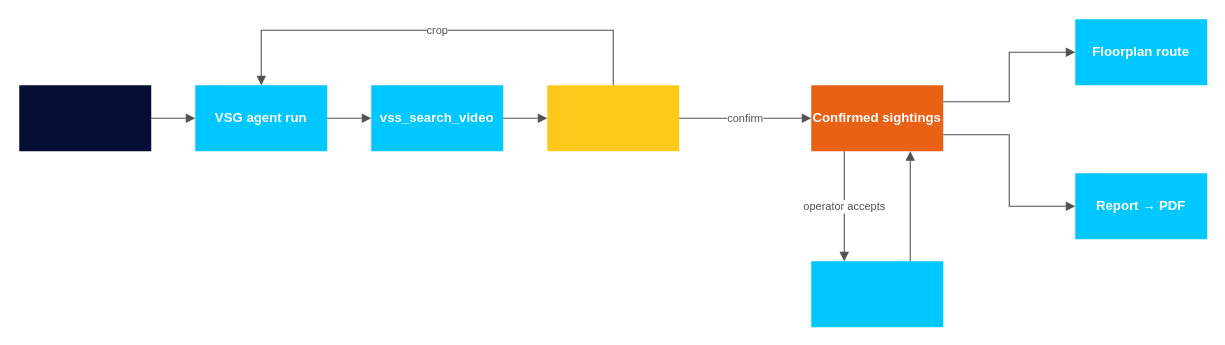
This 1225x345 diagram has some shape labels left out. Each missing label, with the centre of its shape:
Live search: the point at 877,294
Photo / description: the point at 85,118
Review grid: the point at 613,118
